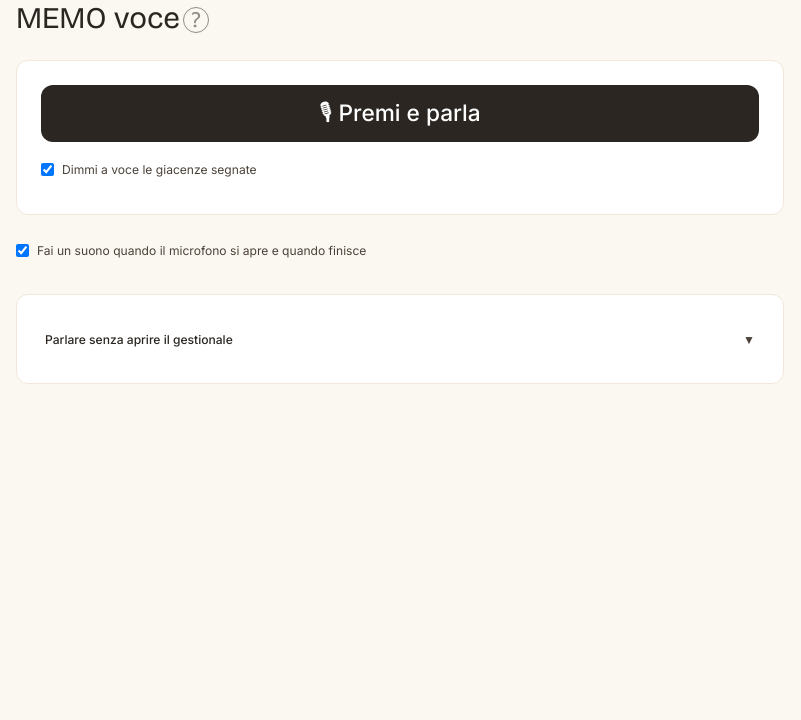
Test case: 🔴 la scheda dell'appunto appena detto compare subito › AMBIGUO: si vedono subito anche i candidati da toccare
Step 1. Click the button "🎙 Premi e parla" → click(400, 114), box [41,85,759,142]
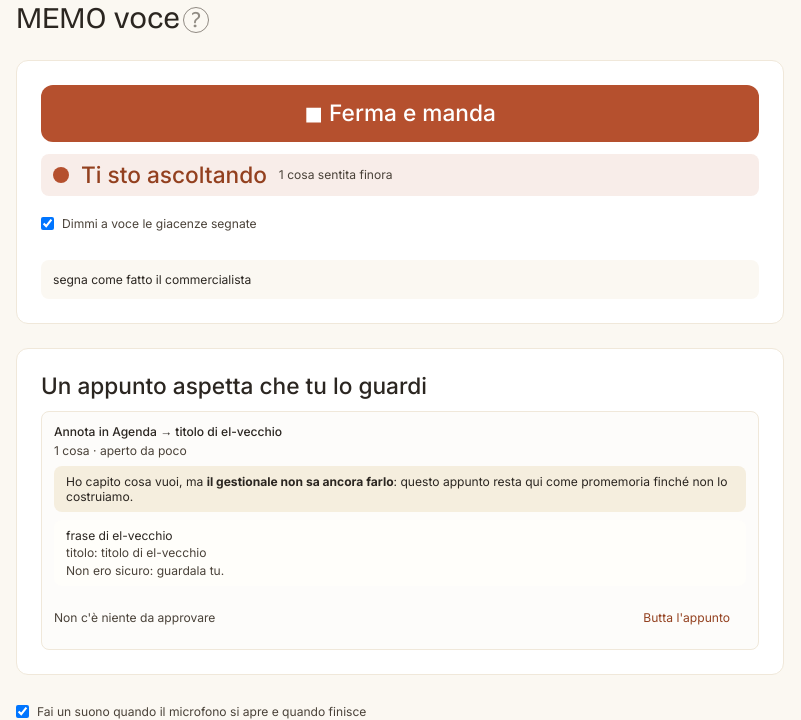
Step 2. Click the button "◼ Ferma e manda" → click(400, 114), box [41,85,759,142]
(page scrolled)
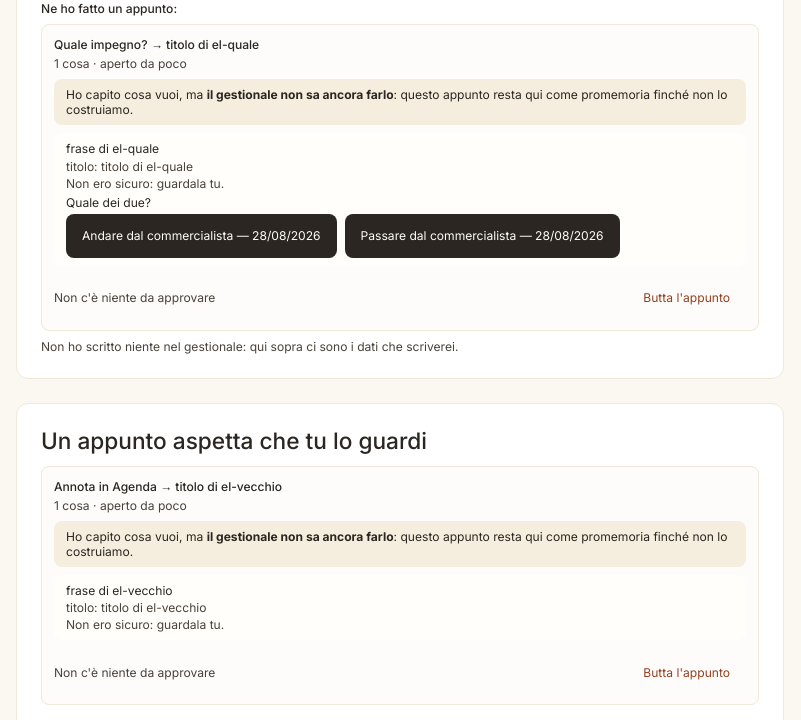
Result: the button "Andare dal commercialista — 28/08/2026" is shown at [66,214,337,258]
Result: the button "Passare dal commercialista — 28/08/2026" is shown at [345,214,620,258]
